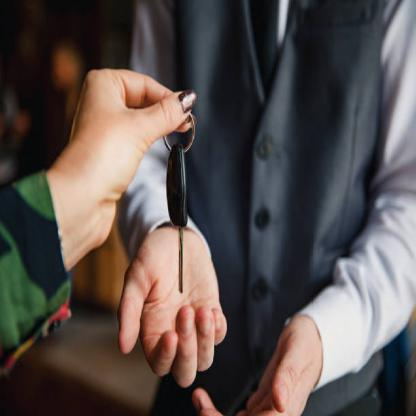keys: (160, 142, 190, 298)
